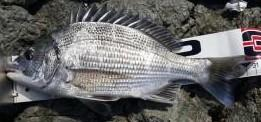fish: (5, 2, 257, 109)
